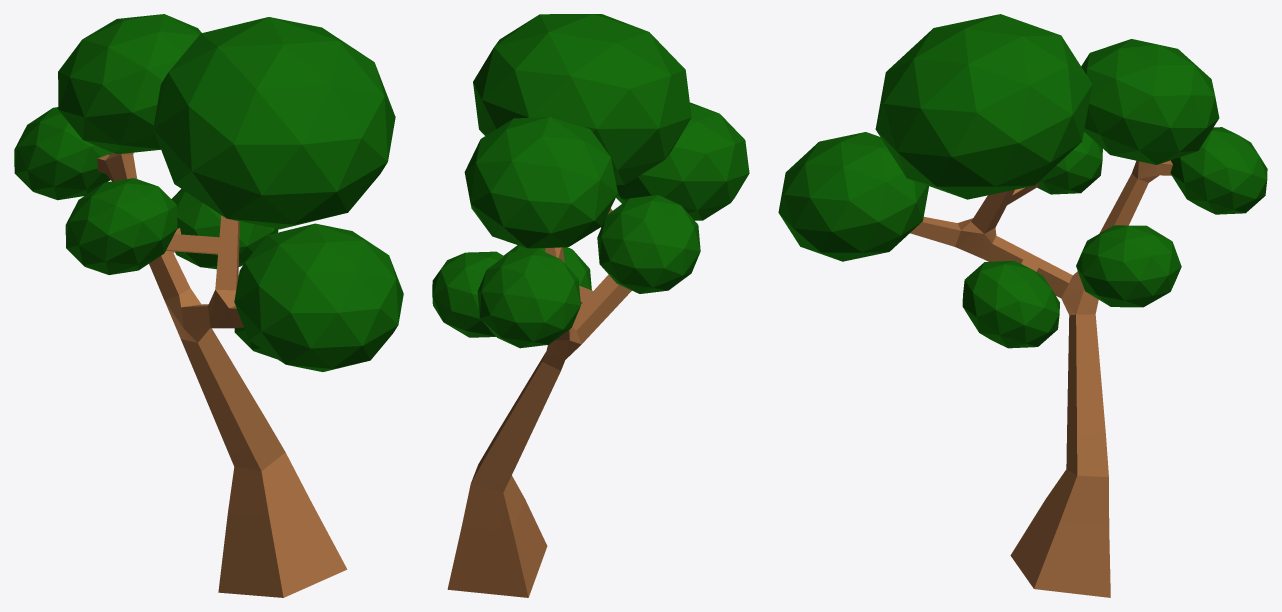
Rendered from variant_5_dark.glb.
3 views of the same model, side by side, from view 1: azimuth 30°, elevation 25°; view 2: azimuth 150°, elevation 25°; view 3: azimuth 270°, elevation 25° (orthographic). The views are drawn at different scales.
Parts seen in each view (by area): view 1: Icosphere.016; view 2: Icosphere.016; view 3: Icosphere.016.
Part boxes in pixels (x1,y1,x2,y2): Icosphere.016: (14,14,403,597); Icosphere.016: (432,14,749,597); Icosphere.016: (778,14,1267,597).
Bounding box in the file's own units: 0.3503 × 0.7526 × 0.6241.
